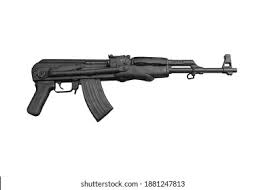gun: (26, 52, 238, 122)
